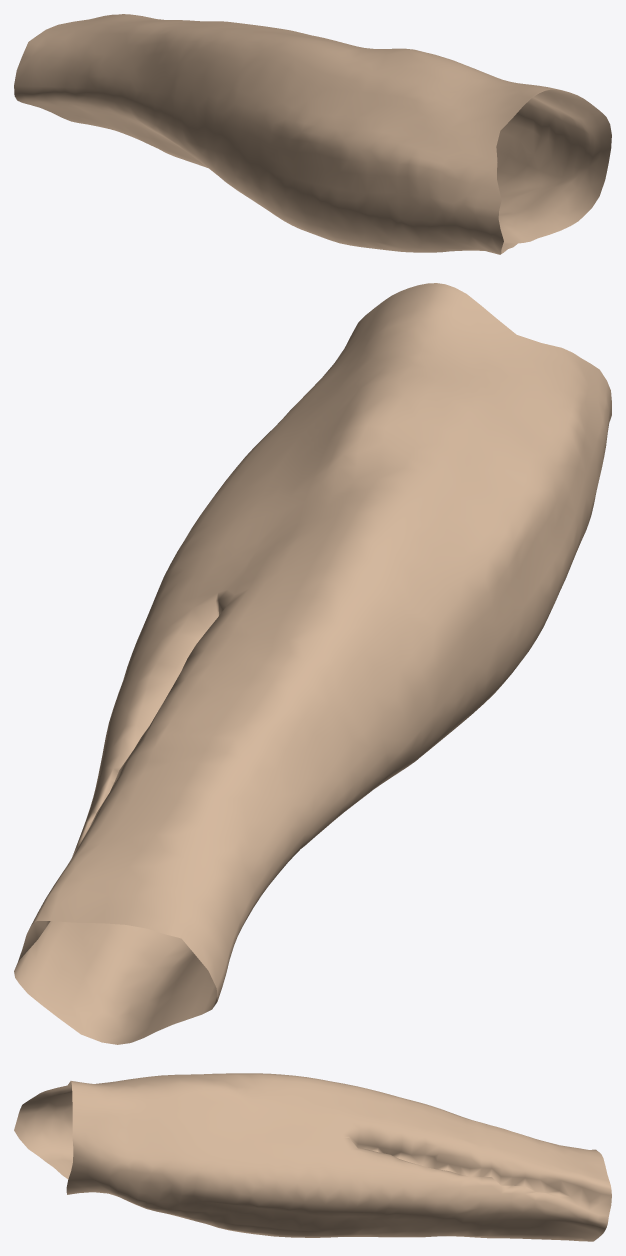
The picture shows the model from 3 angles, top to bottom: view 1: azimuth 30°, elevation 25°; view 2: azimuth 150°, elevation 25°; view 3: azimuth 270°, elevation 25°; orthographic projection. The views are drawn at different scales.
Parts seen in each view (by area): view 1: 右侧前臂筋膜; view 2: 右侧前臂筋膜; view 3: 右侧前臂筋膜.
Boxes of the visible parts, <box> form: 右侧前臂筋膜: <box>14,14,611,254</box>; 右侧前臂筋膜: <box>14,283,611,1044</box>; 右侧前臂筋膜: <box>14,1073,611,1241</box>.
Size of the model in its own units: 0.1549 by 0.151 by 0.4216.
